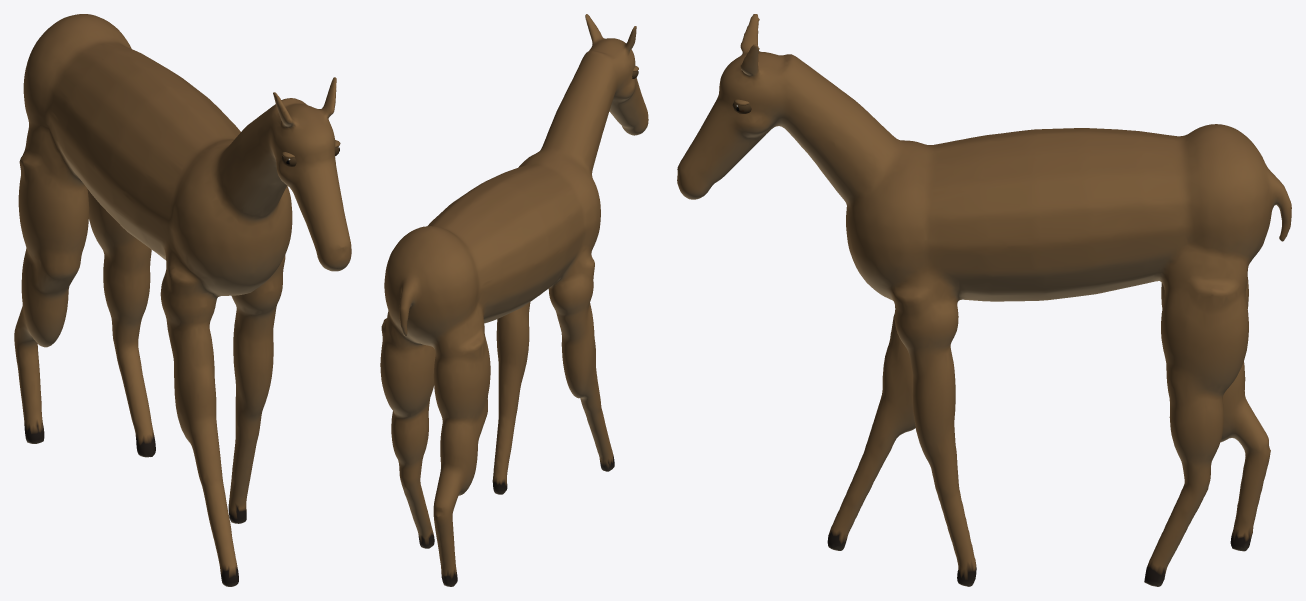
File: ThoatheriumMinusculum.fbx
3 renders of one model, left to right at view 1: azimuth 30°, elevation 25°; view 2: azimuth 150°, elevation 25°; view 3: azimuth 270°, elevation 25°, orthographic. The views are drawn at different scales.
Parts seen in each view (by area): view 1: ThoatheriumMinusculum; view 2: ThoatheriumMinusculum; view 3: ThoatheriumMinusculum.
Part boxes in pixels (x1,y1,x2,y2): ThoatheriumMinusculum: (14, 14, 351, 586); ThoatheriumMinusculum: (380, 14, 648, 586); ThoatheriumMinusculum: (677, 14, 1291, 586).
Bounding box in the file's own units: 0.3238 × 1.32 × 1.37.
